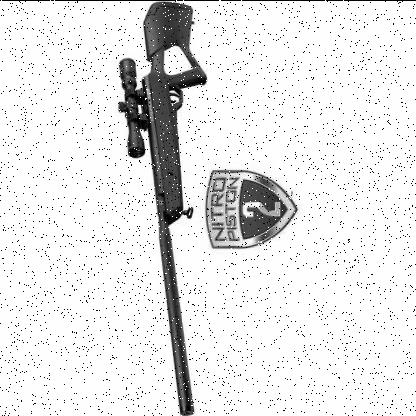rifle: (105, 4, 234, 416)
